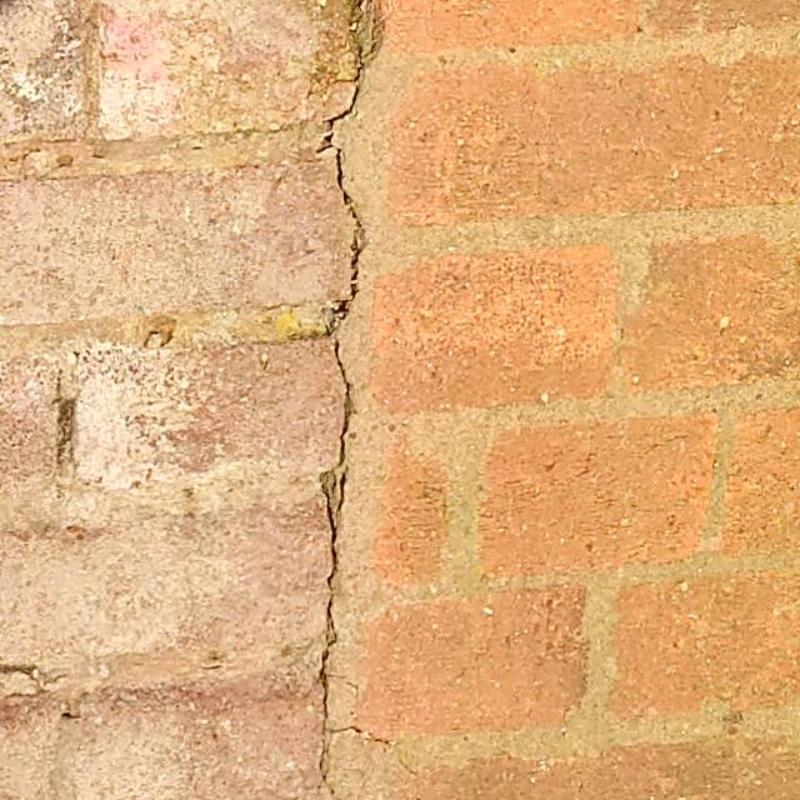pothole: (319, 338, 423, 796), (317, 53, 372, 332)
